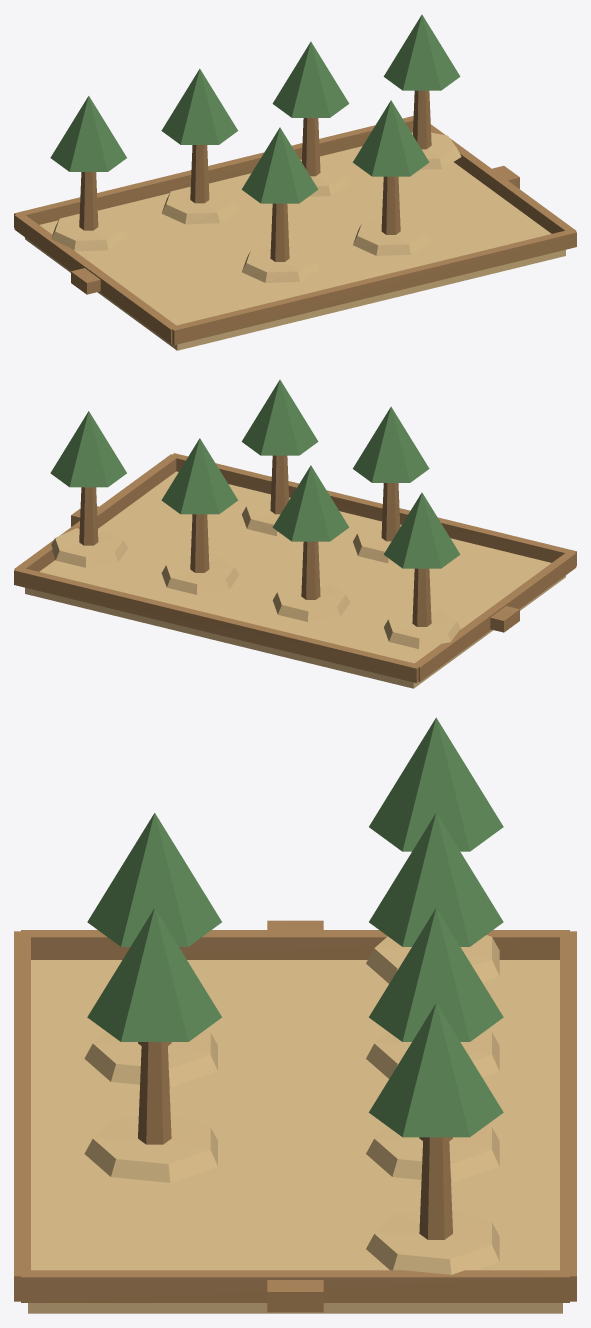
File: Orchard.glb
The picture shows the model from 3 angles, top to bottom: view 1: azimuth 30°, elevation 25°; view 2: azimuth 150°, elevation 25°; view 3: azimuth 270°, elevation 25°; orthographic projection. The views are drawn at different scales.
Visible parts, largest first — view 1: wind-pump-static-orchard-soil-mat, wind-pump-static-orchard-leaf-mat, wind-pump-static-orchard-curb-mat, wind-pump-static-orchard-trunk-mat; view 2: wind-pump-static-orchard-soil-mat, wind-pump-static-orchard-leaf-mat, wind-pump-static-orchard-curb-mat, wind-pump-static-orchard-trunk-mat; view 3: wind-pump-static-orchard-soil-mat, wind-pump-static-orchard-leaf-mat, wind-pump-static-orchard-curb-mat, wind-pump-static-orchard-trunk-mat.
Boxes of the visible parts, x1,y1,x2,y2 form: wind-pump-static-orchard-soil-mat: [25, 132, 565, 350]; wind-pump-static-orchard-leaf-mat: [50, 14, 460, 203]; wind-pump-static-orchard-curb-mat: [14, 116, 576, 344]; wind-pump-static-orchard-trunk-mat: [79, 90, 431, 261]; wind-pump-static-orchard-soil-mat: [25, 471, 565, 688]; wind-pump-static-orchard-leaf-mat: [50, 379, 460, 568]; wind-pump-static-orchard-curb-mat: [14, 453, 576, 682]; wind-pump-static-orchard-trunk-mat: [79, 455, 431, 626]; wind-pump-static-orchard-soil-mat: [28, 935, 562, 1313]; wind-pump-static-orchard-leaf-mat: [87, 717, 503, 1137]; wind-pump-static-orchard-curb-mat: [14, 920, 576, 1312]; wind-pump-static-orchard-trunk-mat: [138, 1042, 452, 1239].
Bounding box in the file's own units: 3.12 × 1.12 × 2.
